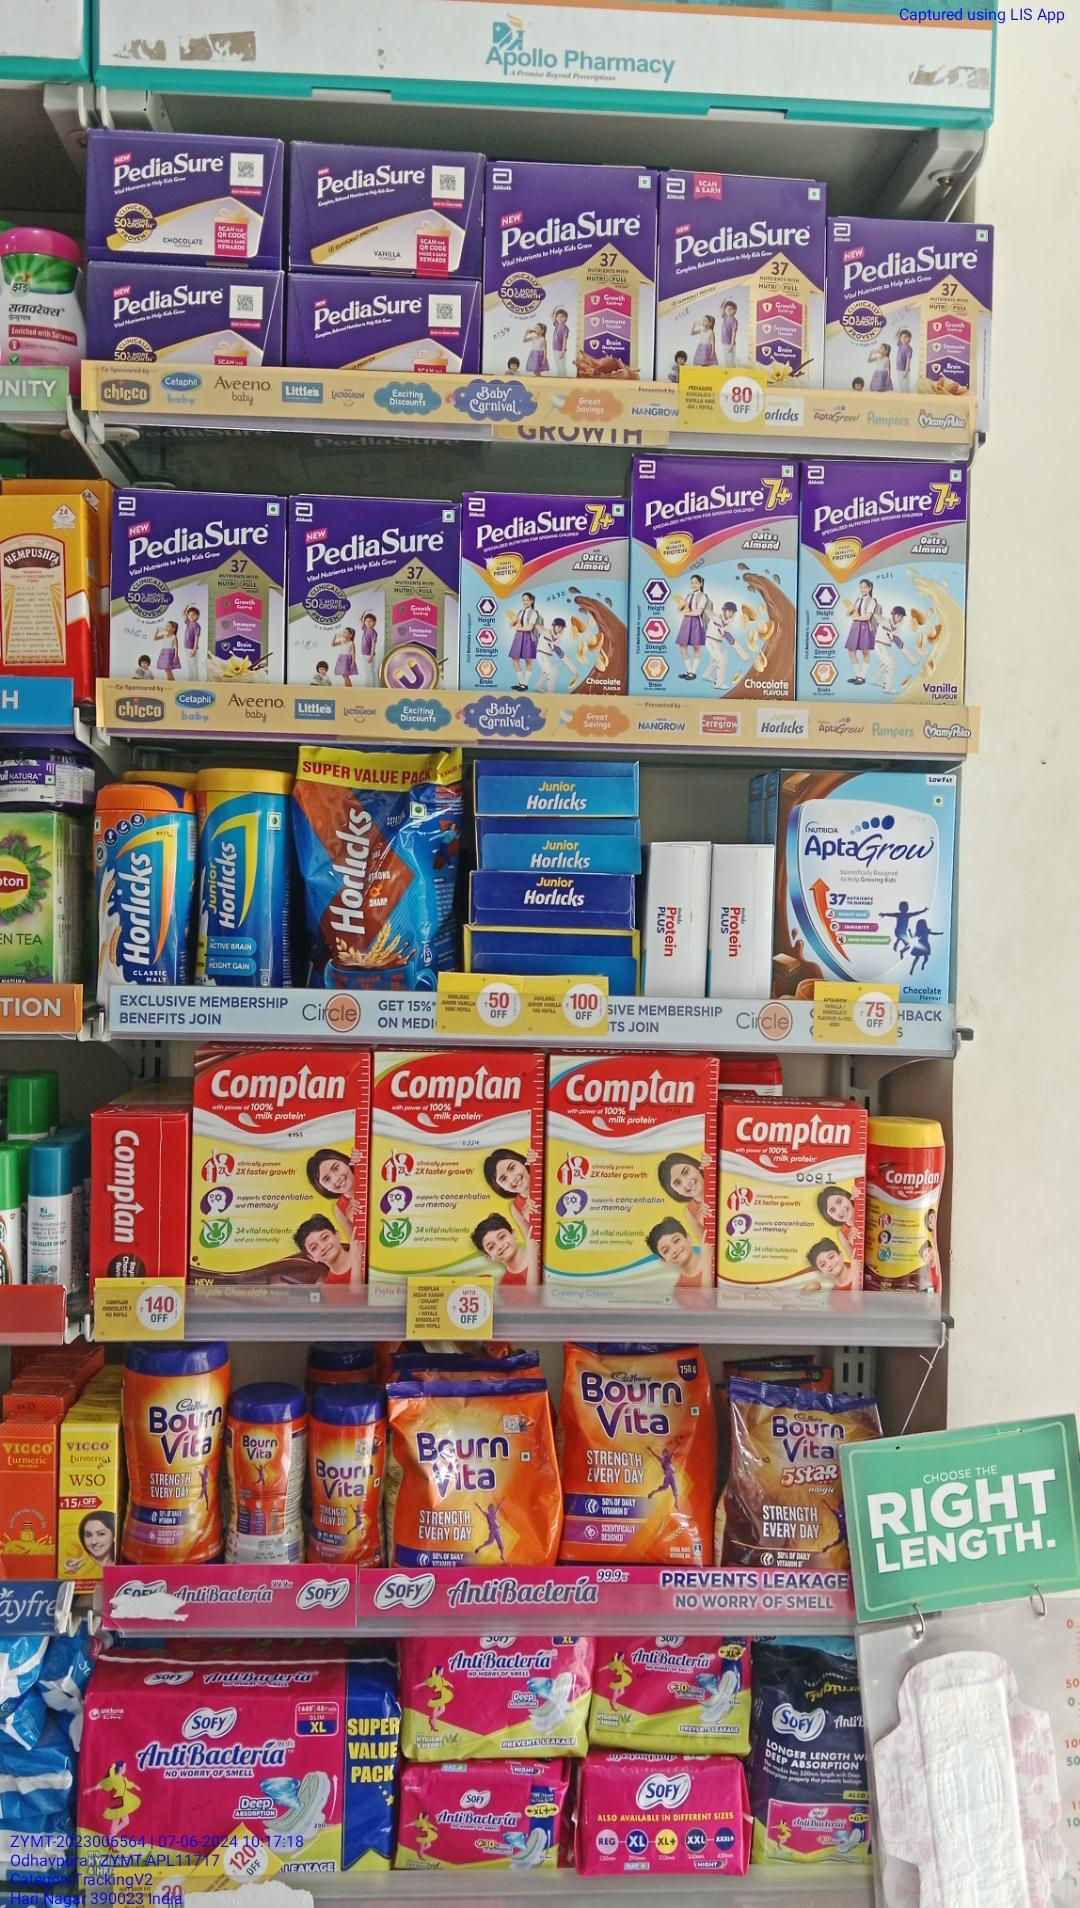HORLICKS_JUNIOR_VANILLA_500_GM_JAR: (194, 765, 292, 989)
HORLICK_CLASSIC_MALT_500_G_JAR: (96, 781, 194, 982)
